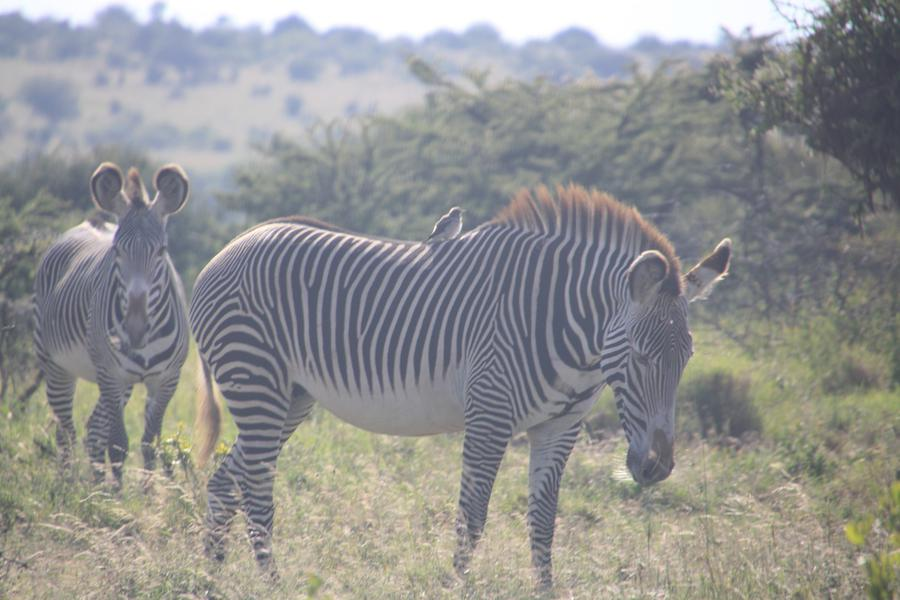zebra_grevys: (194, 198, 552, 423)
